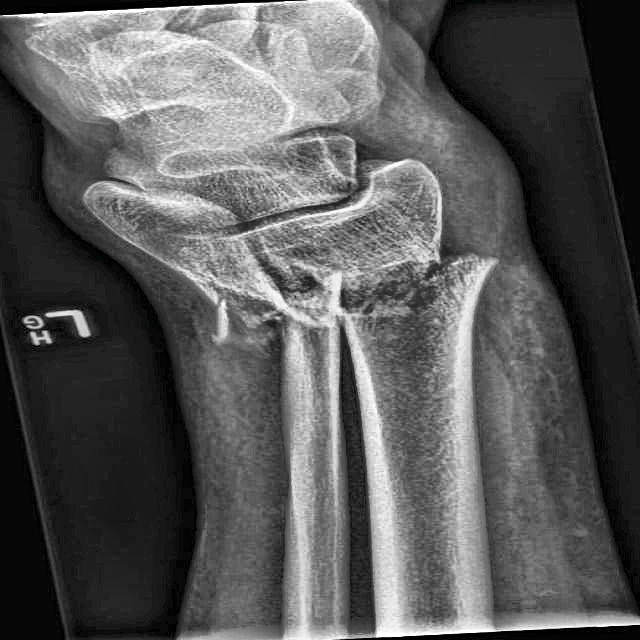Comminuted: (324, 240, 502, 335), (200, 278, 353, 354)
